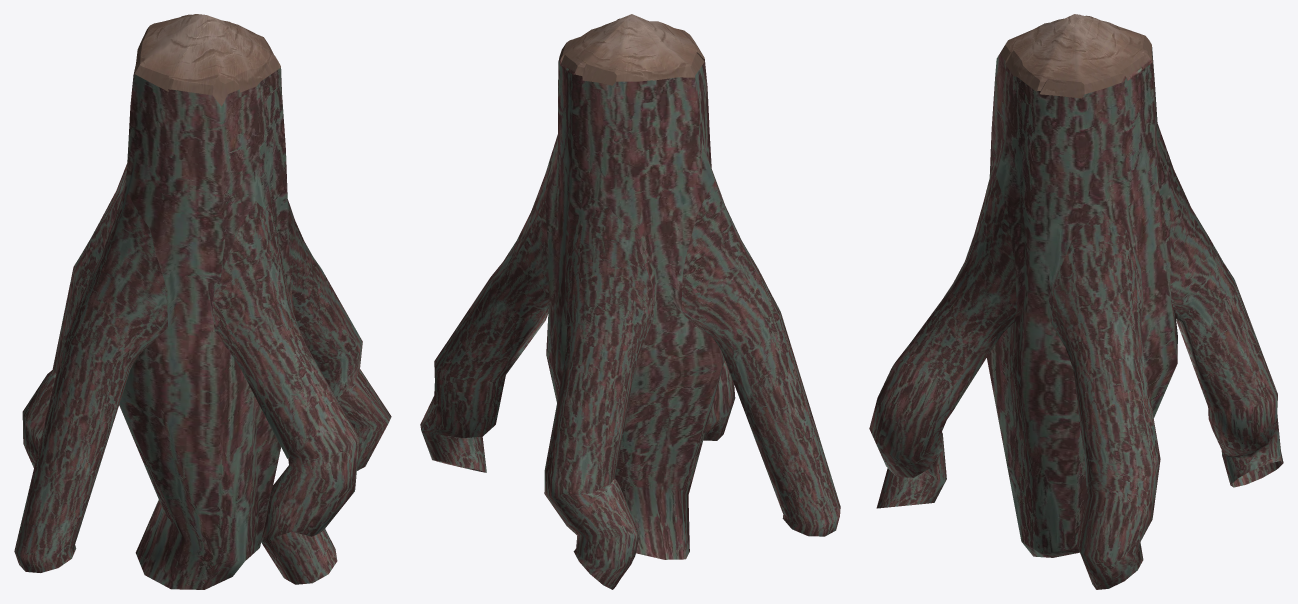
The picture shows the model from 3 angles, left to right: view 1: azimuth 30°, elevation 25°; view 2: azimuth 150°, elevation 25°; view 3: azimuth 270°, elevation 25°; orthographic projection. The views are drawn at different scales.
Visible parts, largest first — view 1: SM_MapleTree_02_stump_LOD0; view 2: SM_MapleTree_02_stump_LOD0; view 3: SM_MapleTree_02_stump_LOD0.
Boxes of the visible parts, bbox=[...] form: SM_MapleTree_02_stump_LOD0: bbox=[14, 14, 391, 589]; SM_MapleTree_02_stump_LOD0: bbox=[420, 14, 840, 589]; SM_MapleTree_02_stump_LOD0: bbox=[869, 14, 1283, 589].
Bounding box in the file's own units: 1.87 × 2.49 × 1.71.
1 material, 1 textured.
